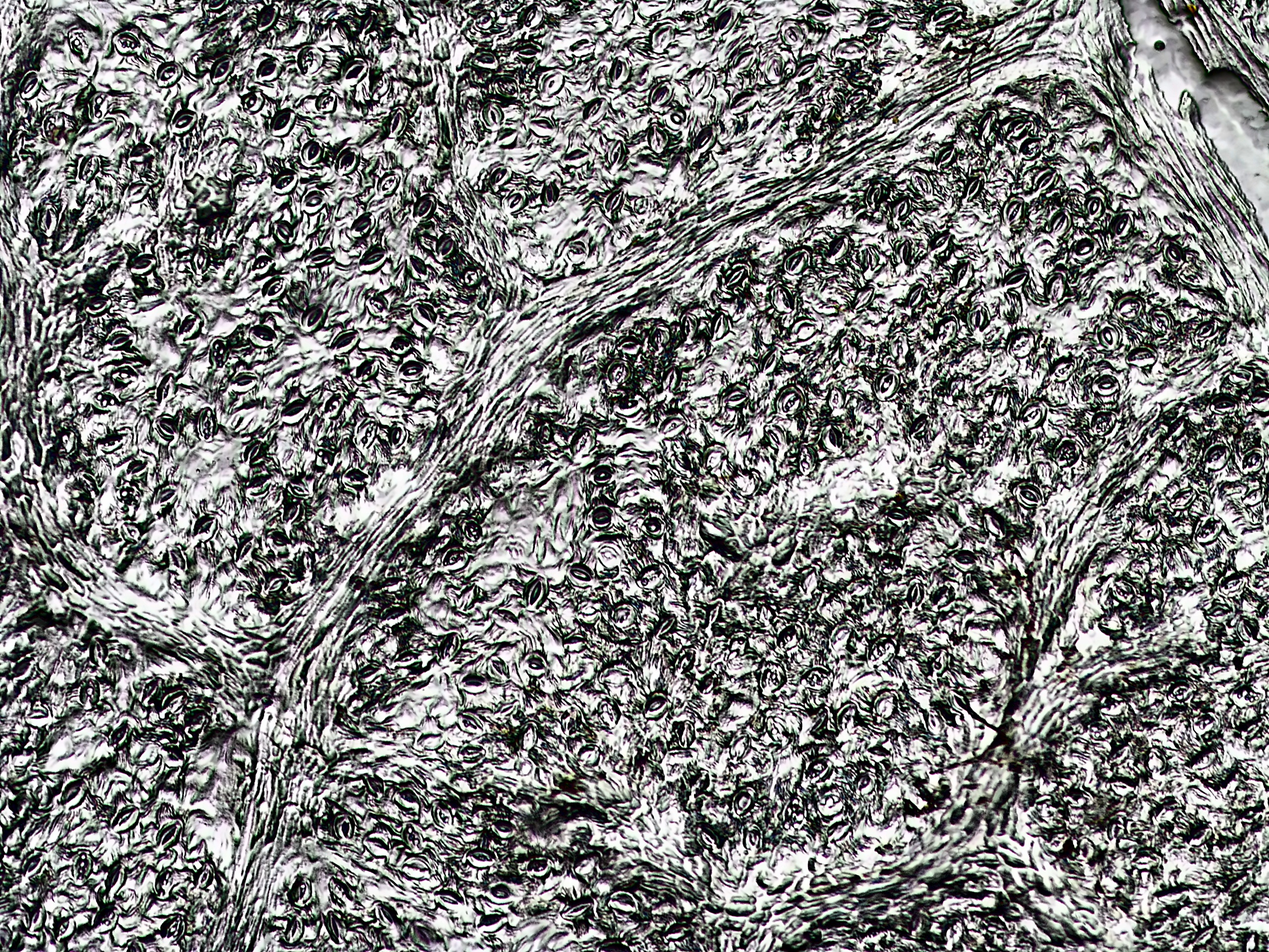stomata: (774, 384, 806, 416), (522, 574, 549, 610), (758, 662, 787, 695), (800, 666, 835, 693), (1193, 515, 1224, 545), (867, 637, 897, 668), (687, 68, 715, 101), (873, 369, 901, 401), (66, 29, 93, 62), (1112, 293, 1145, 320), (1007, 328, 1036, 358), (110, 805, 140, 834), (59, 779, 87, 810), (646, 122, 672, 155), (484, 882, 521, 905), (297, 46, 326, 75), (569, 426, 596, 457), (1014, 482, 1045, 509), (1020, 397, 1046, 429), (834, 37, 867, 62), (269, 108, 297, 137), (713, 5, 741, 34), (331, 329, 360, 357), (648, 81, 674, 112), (982, 506, 1007, 538), (561, 897, 593, 922), (22, 848, 47, 880), (1204, 443, 1232, 471), (582, 97, 609, 126), (783, 247, 810, 276), (301, 303, 327, 333), (719, 382, 749, 408), (932, 316, 958, 346), (1096, 321, 1122, 351), (94, 904, 119, 935), (70, 851, 93, 884), (340, 59, 368, 86), (1054, 440, 1082, 467), (1108, 577, 1136, 604), (596, 542, 625, 568), (774, 624, 803, 650), (363, 832, 392, 858), (257, 3, 282, 33), (635, 565, 665, 590), (402, 856, 432, 881), (355, 416, 377, 450), (651, 22, 674, 54), (1230, 684, 1262, 707), (538, 71, 565, 98), (112, 30, 140, 56), (152, 415, 178, 443), (805, 758, 833, 784), (393, 788, 421, 814), (1125, 346, 1158, 368), (18, 71, 43, 100), (597, 699, 622, 728), (108, 721, 133, 750), (211, 54, 235, 84), (607, 56, 631, 86), (873, 692, 897, 722), (323, 911, 344, 945), (1044, 272, 1067, 303), (949, 549, 980, 572), (155, 61, 182, 87), (171, 110, 198, 136), (612, 602, 638, 629), (694, 823, 721, 849), (273, 219, 298, 247), (358, 248, 386, 273), (763, 423, 788, 451), (106, 863, 126, 898), (77, 154, 101, 183), (248, 324, 277, 348), (441, 547, 470, 571), (587, 507, 616, 531), (1169, 487, 1198, 511), (430, 800, 454, 829), (466, 49, 499, 70), (197, 407, 218, 440), (37, 203, 58, 236), (86, 92, 109, 122), (128, 253, 158, 276), (1131, 519, 1161, 542), (608, 891, 638, 914), (455, 711, 485, 734), (208, 335, 230, 366), (90, 391, 121, 413), (351, 212, 377, 238), (485, 655, 511, 681), (256, 58, 283, 83), (335, 147, 360, 174), (819, 424, 844, 451), (1050, 358, 1077, 383), (160, 914, 185, 941), (412, 193, 436, 221), (157, 372, 178, 404), (1220, 573, 1248, 597), (817, 793, 845, 817), (402, 823, 426, 851), (156, 821, 180, 849), (566, 563, 595, 586), (658, 416, 687, 439), (771, 284, 794, 313), (479, 910, 508, 933), (386, 107, 408, 137), (441, 632, 463, 662), (1070, 239, 1100, 261), (464, 848, 497, 868), (692, 126, 717, 152), (1091, 412, 1117, 437), (25, 703, 51, 728), (791, 317, 818, 341), (1242, 448, 1266, 475), (1153, 886, 1189, 904), (733, 788, 757, 815), (406, 254, 429, 282), (411, 302, 434, 330), (931, 5, 963, 25), (967, 304, 989, 333), (1049, 209, 1071, 238), (561, 706, 583, 735), (291, 876, 313, 905), (121, 181, 151, 202), (369, 69, 390, 99), (765, 54, 786, 84), (1097, 615, 1127, 636), (837, 701, 858, 731), (283, 916, 304, 946), (271, 170, 296, 195), (178, 314, 203, 339), (301, 189, 325, 215), (281, 401, 307, 425), (162, 690, 188, 714), (502, 190, 529, 213), (85, 293, 112, 316), (1092, 374, 1119, 397), (1149, 311, 1172, 338), (191, 243, 211, 274), (680, 312, 700, 343), (798, 444, 818, 475), (80, 677, 100, 708), (528, 116, 556, 138), (1003, 197, 1025, 225), (826, 383, 847, 412), (889, 331, 910, 360), (1099, 694, 1128, 715), (193, 860, 214, 889), (26, 903, 47, 932), (608, 139, 628, 169), (826, 236, 851, 260), (459, 674, 489, 694), (301, 139, 324, 165), (489, 163, 512, 189), (436, 234, 459, 260), (246, 473, 272, 496), (576, 853, 602, 876), (526, 856, 552, 879), (482, 101, 504, 128), (231, 371, 258, 393), (42, 112, 64, 139), (381, 605, 408, 627), (953, 261, 975, 288), (1145, 747, 1167, 774), (158, 746, 185, 768), (710, 311, 729, 342), (399, 360, 427, 381), (1107, 777, 1135, 798), (1107, 814, 1128, 842), (675, 645, 696, 673), (141, 677, 162, 705), (588, 465, 617, 485), (1190, 750, 1219, 770), (377, 173, 401, 197), (851, 286, 875, 310), (433, 890, 465, 908), (251, 256, 276, 279), (494, 75, 519, 98), (329, 20, 352, 45), (194, 516, 217, 541), (1236, 618, 1259, 643), (765, 716, 788, 741), (670, 453, 693, 478), (732, 92, 758, 114), (262, 277, 288, 299), (324, 393, 346, 419), (648, 324, 670, 350), (1204, 603, 1234, 622), (316, 88, 337, 115), (107, 329, 134, 350), (729, 733, 750, 760), (662, 365, 682, 393), (838, 338, 858, 366), (743, 823, 763, 851), (241, 90, 265, 113), (268, 531, 291, 555), (607, 362, 631, 385), (333, 814, 356, 838), (866, 12, 895, 31), (615, 397, 644, 416), (155, 867, 174, 896), (89, 637, 108, 666), (494, 128, 519, 150), (644, 697, 669, 719), (605, 188, 626, 214), (128, 142, 155, 162), (524, 2, 544, 29), (96, 434, 123, 454), (58, 428, 78, 455), (1211, 396, 1241, 414), (800, 566, 820, 593), (925, 708, 945, 735), (1132, 851, 1160, 870), (675, 721, 694, 749), (1032, 169, 1056, 191), (565, 146, 590, 167), (1110, 213, 1131, 238), (304, 248, 333, 266), (906, 579, 924, 608), (519, 722, 537, 751), (112, 365, 138, 385), (1191, 714, 1217, 734), (1167, 682, 1194, 701), (1086, 720, 1113, 739), (490, 819, 517, 838), (795, 59, 818, 81), (366, 295, 389, 317), (357, 360, 379, 383), (459, 266, 482, 288), (930, 232, 952, 255), (963, 176, 985, 199), (1022, 138, 1044, 161), (854, 772, 876, 795), (578, 744, 600, 767), (513, 44, 541, 62), (781, 25, 805, 46), (891, 196, 912, 220), (932, 586, 956, 607), (523, 656, 548, 676), (831, 624, 851, 649), (540, 180, 559, 206), (492, 610, 518, 629), (759, 348, 778, 374), (390, 336, 413, 357), (936, 146, 957, 169), (1107, 744, 1130, 765), (641, 518, 665, 538), (1189, 826, 1213, 846), (656, 613, 676, 637), (374, 903, 394, 927), (344, 470, 369, 489), (389, 422, 407, 448), (235, 536, 253, 562), (1002, 269, 1028, 287), (475, 9, 497, 30), (119, 523, 141, 544), (363, 774, 384, 796), (789, 141, 812, 161), (909, 415, 929, 438), (828, 821, 851, 841), (577, 605, 601, 624), (617, 337, 641, 356), (665, 923, 689, 942), (1229, 367, 1254, 385), (704, 601, 722, 626), (460, 745, 485, 763), (378, 577, 406, 593), (1084, 197, 1105, 218), (244, 441, 264, 463), (266, 574, 288, 594), (357, 665, 381, 683), (564, 634, 588, 652), (913, 173, 931, 197), (157, 487, 177, 508), (725, 266, 746, 286), (127, 460, 149, 479), (288, 478, 310, 497), (1007, 119, 1029, 138), (929, 653, 948, 675), (808, 6, 834, 22), (57, 917, 75, 940), (360, 10, 377, 34), (862, 246, 879, 270), (846, 89, 870, 106), (1078, 837, 1095, 861), (944, 455, 964, 475), (756, 604, 775, 625), (464, 520, 482, 542), (865, 185, 883, 206), (907, 285, 924, 306), (284, 502, 300, 524), (396, 652, 418, 668), (539, 421, 553, 444), (898, 240, 911, 262), (887, 507, 909, 520), (852, 71, 875, 83), (301, 551, 313, 571)
